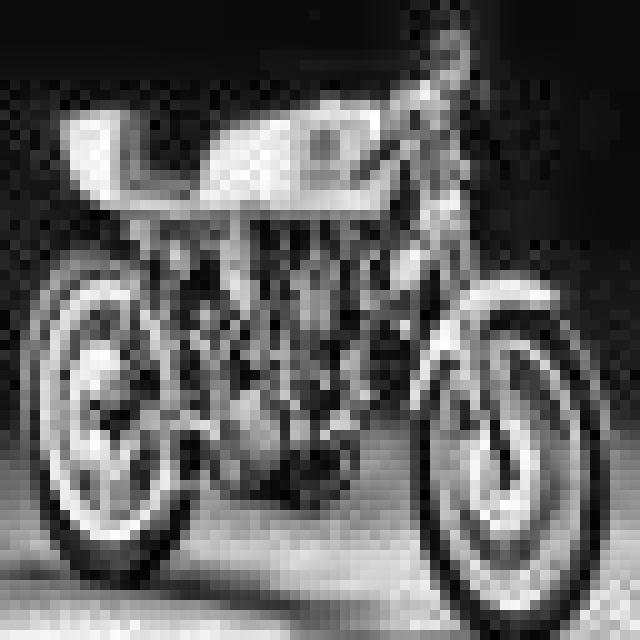mopeds: (28, 40, 637, 639)
